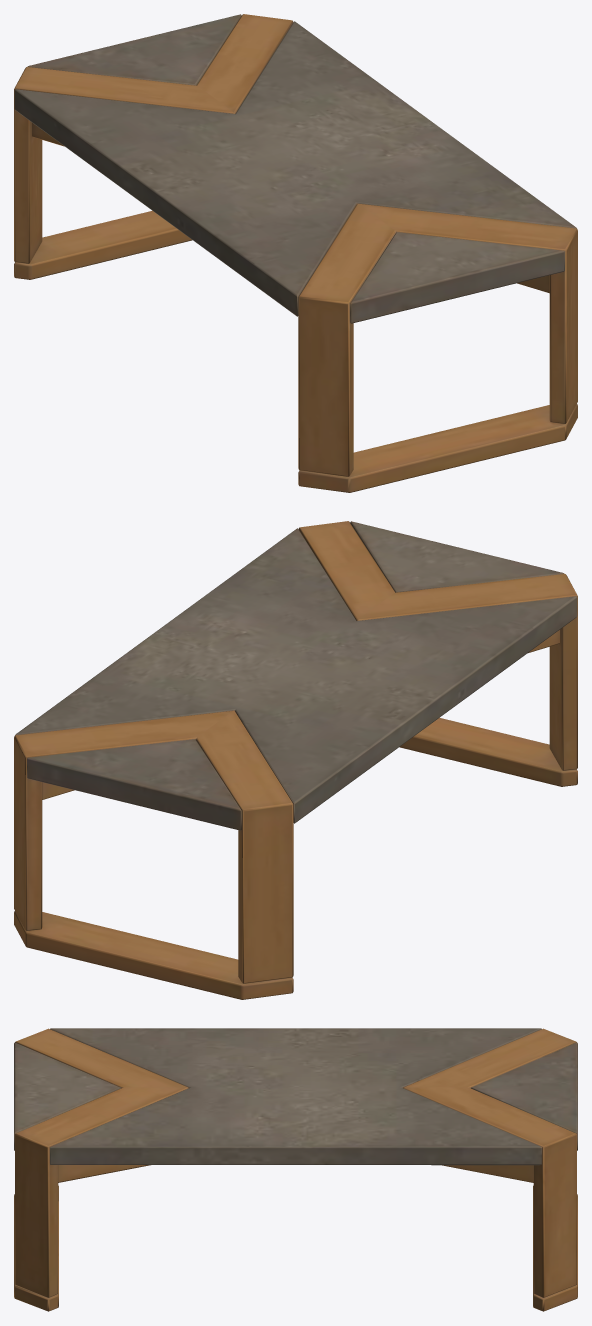
The model's file is coffee-table.glb.
The picture shows the model from 3 angles, top to bottom: view 1: azimuth 30°, elevation 25°; view 2: azimuth 150°, elevation 25°; view 3: azimuth 270°, elevation 25°; orthographic projection. The views are drawn at different scales.
Parts seen in each view (by area): view 1: modern_coffee_table_01; view 2: modern_coffee_table_01; view 3: modern_coffee_table_01.
Boxes of the visible parts, box(x1,y1,x2,y2) form: modern_coffee_table_01: box(14, 14, 577, 492); modern_coffee_table_01: box(14, 521, 577, 999); modern_coffee_table_01: box(14, 1028, 577, 1311).
Bounding box in the file's own units: 0.5999 × 0.39 × 1.2.
1 material, 1 textured.
